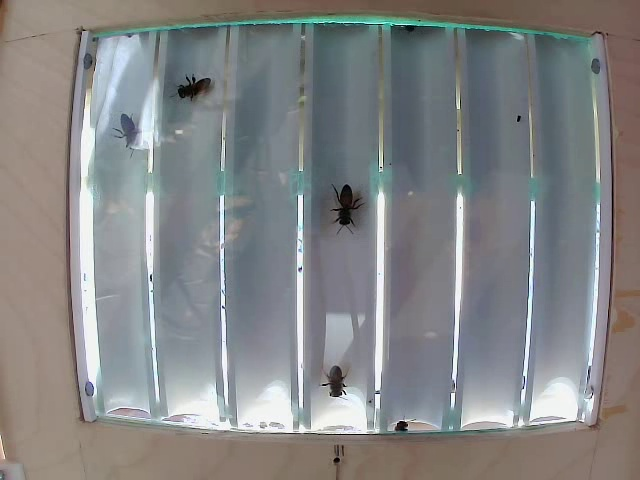bee: (109, 110, 165, 163), (327, 177, 363, 239), (325, 345, 357, 407), (173, 70, 214, 109)
